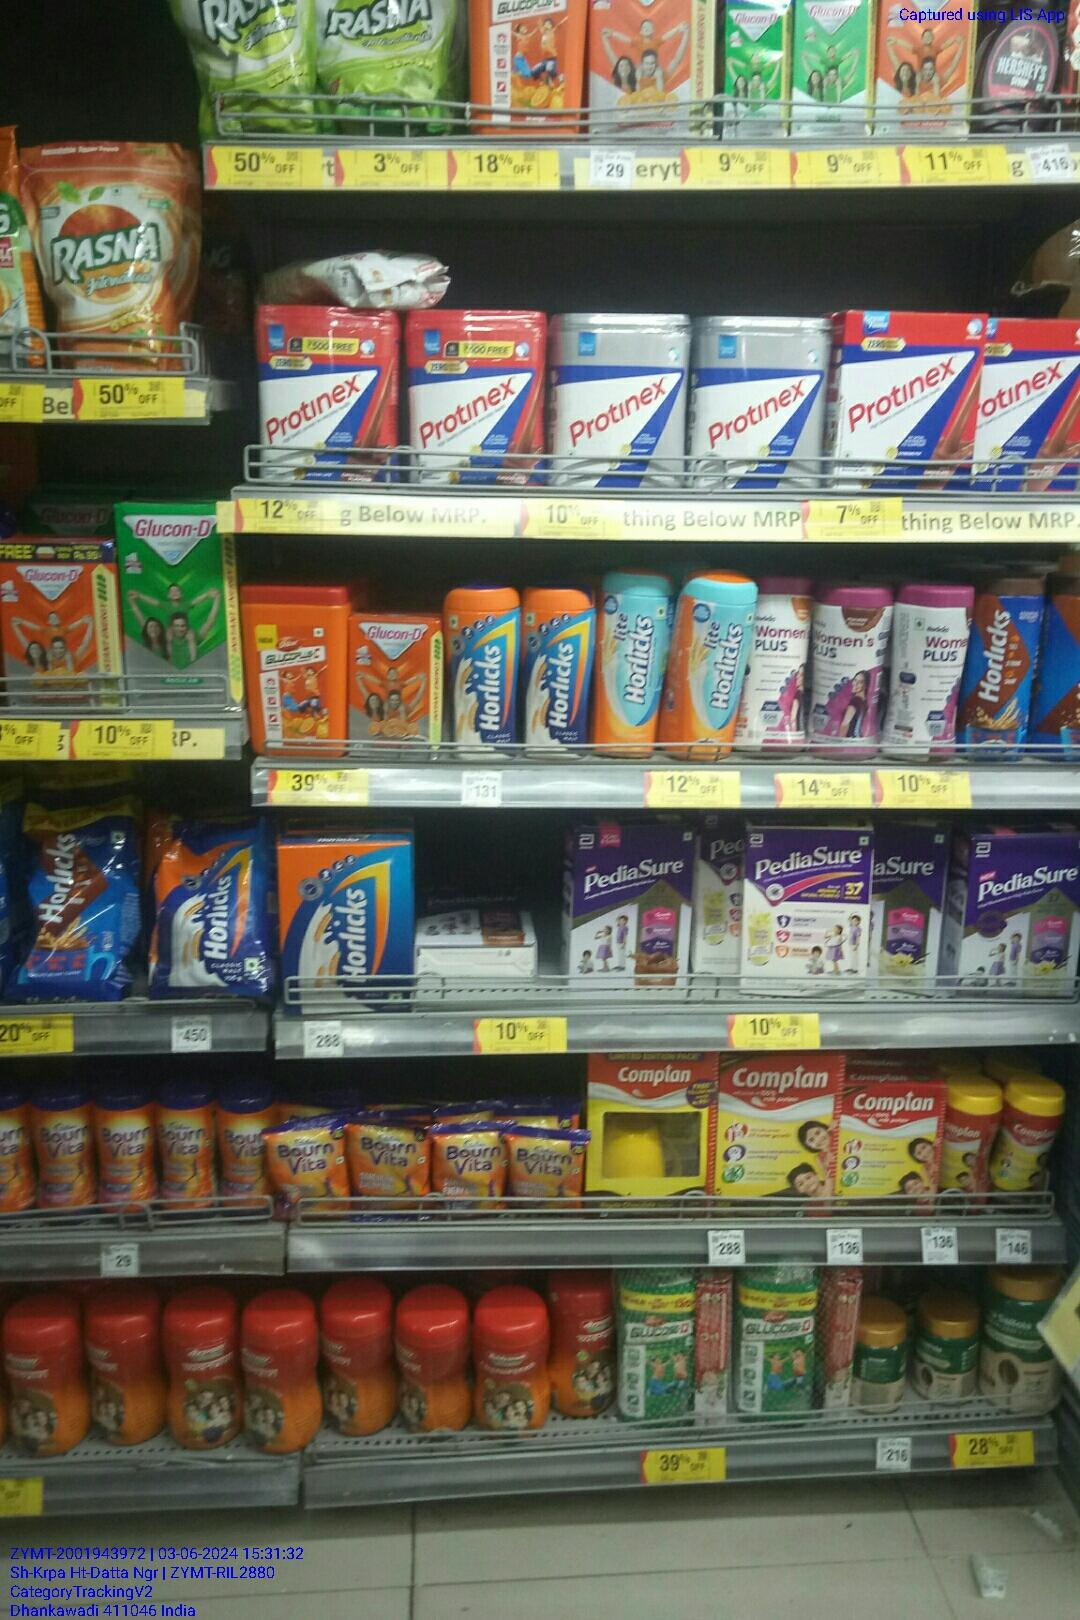BOURN_VITA_500_G_JAR: (95, 1096, 157, 1222), (35, 1087, 90, 1222), (160, 1098, 218, 1221), (221, 1099, 271, 1223), (0, 1090, 30, 1217)
BOURN_VITA_75_G_POUCH: (351, 1117, 429, 1216), (272, 1123, 352, 1220), (435, 1128, 510, 1220), (507, 1127, 582, 1215)
COMPLAN_CHOCOLATE_200_GMS_PACK: (840, 1085, 938, 1216)
COMPLAN_CHOCOLATE_500_GMS_JAR: (718, 1055, 834, 1219), (1003, 1088, 1057, 1213), (943, 1096, 993, 1215)
HORLICKS_LITE_REGULAR_MALT_500_GM_JAR: (665, 575, 739, 764), (592, 574, 665, 755)
HORLICK_CHOCOLATE_500_G_JAR: (972, 570, 1032, 759)
HORLICK_CHOCOLATE_750_G_POUCH: (18, 800, 133, 994)
HORLICK_CLASSIC_MALT_500_G_JAR: (448, 593, 522, 769), (523, 594, 585, 763)
HORLICK_CLASSIC_MALT_500_G_PACK: (280, 847, 407, 1014)
HORLICK_CLASSIC_MALT_750_G_POUCH: (149, 835, 276, 993)
PEDIASURE_CHOCOLATE_500_G_PACK: (574, 830, 691, 999)
PEDIASURE_VANILLA_500_G_PACK: (741, 829, 871, 1003), (963, 834, 1080, 997)
PROTINEX_CHOCOLATE_400_G_JAR: (252, 305, 403, 485), (410, 312, 544, 487)
PROTINEX_ORIGINAL_400_G_JAR: (554, 318, 687, 489), (694, 319, 822, 493)
